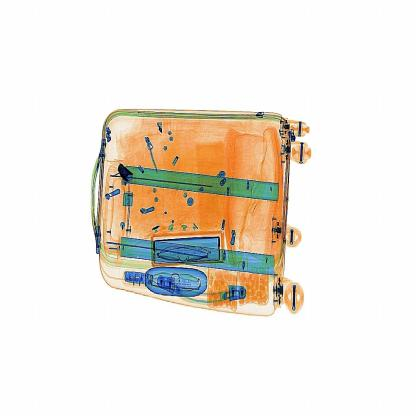pliers: (115, 154, 140, 194)
